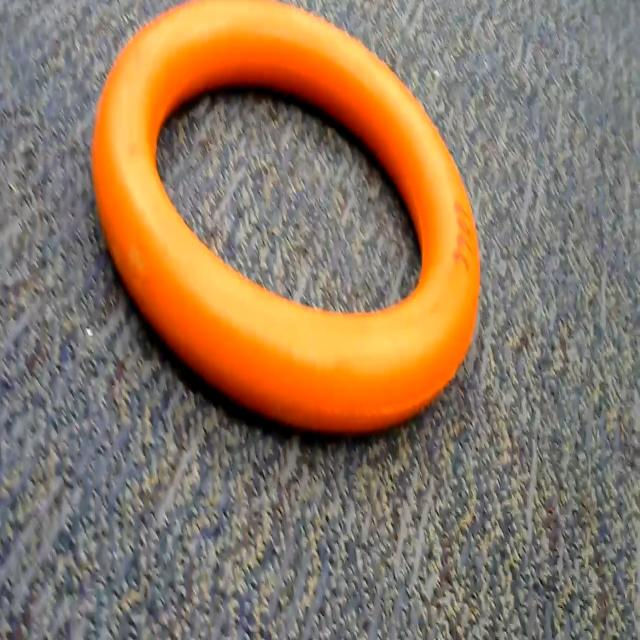note: (89, 0, 483, 454)
